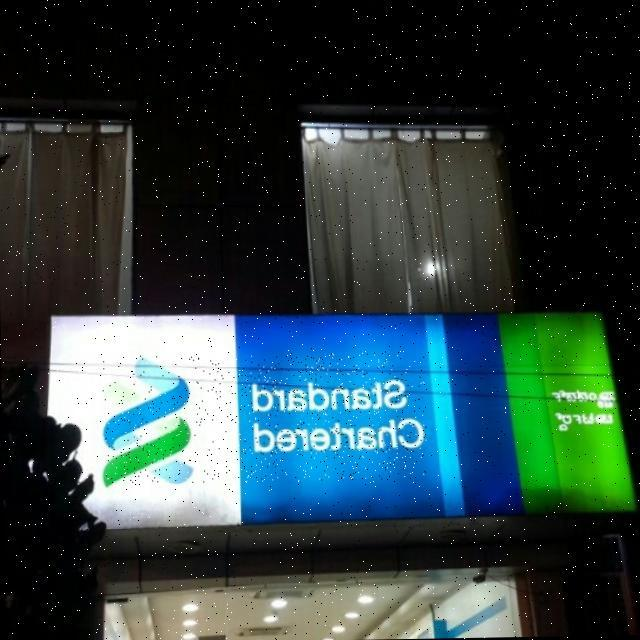Standard Chartered: (100, 351, 427, 484)
